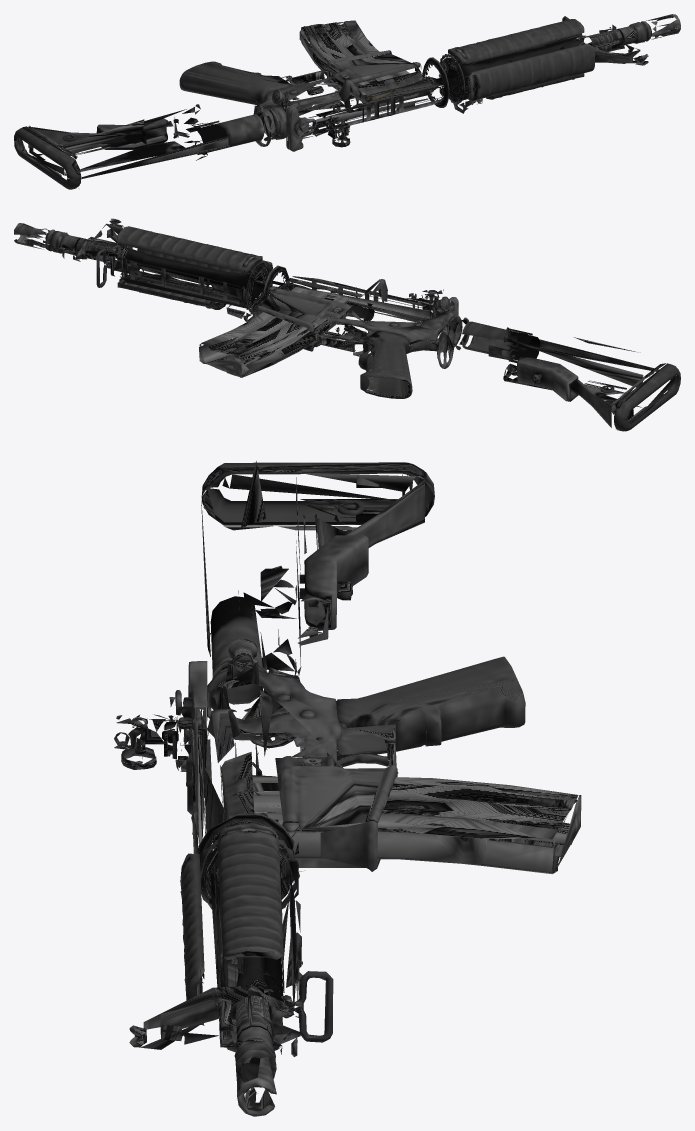
3 views of the same model, one above another, from view 1: azimuth 30°, elevation 25°; view 2: azimuth 150°, elevation 25°; view 3: azimuth 270°, elevation 25° (orthographic). The views are drawn at different scales.
Parts seen in each view (by area): view 1: w_m4a4; view 2: w_m4a4; view 3: w_m4a4.
Boxes of the visible parts, <box> form: w_m4a4: <box>14,14,680,189</box>; w_m4a4: <box>14,218,680,431</box>; w_m4a4: <box>114,461,581,1116</box>.
Size of the model in its own units: 1.11 by 0.1141 by 0.362.
1 material, 1 textured.
